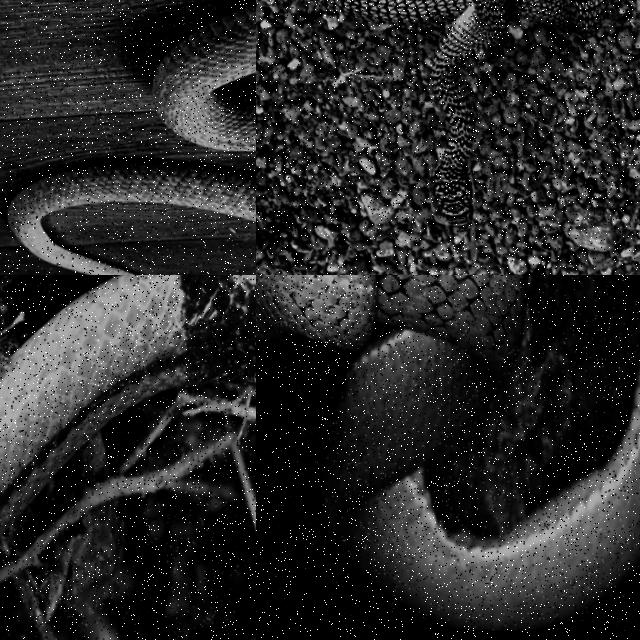Calliophis maculiceps: (0, 275, 255, 535)
Chrysopelea ornata: (313, 0, 607, 228)
Naja kaouthia: (7, 161, 255, 274)
Trimeresurus macrops: (256, 275, 639, 629)
snake: (256, 275, 639, 629), (313, 0, 607, 228), (0, 275, 255, 535), (7, 161, 255, 274)
